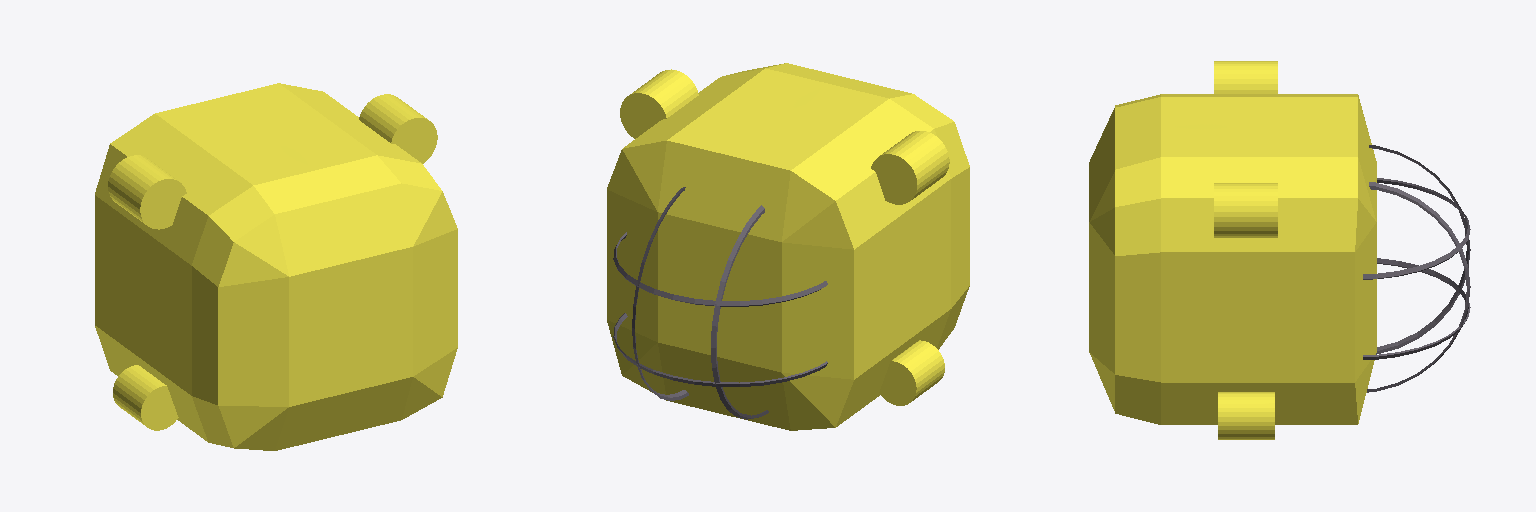
3 renders of one model, left to right at view 1: azimuth 30°, elevation 25°; view 2: azimuth 150°, elevation 25°; view 3: azimuth 270°, elevation 25°, orthographic.
Parts seen in each view (by area): view 1: Cube; view 2: Cube; view 3: Cube.
Boxes of the visible parts, box(x1,y1,x2,y2) form: Cube: box(95, 83, 457, 450); Cube: box(607, 63, 969, 430); Cube: box(1089, 61, 1470, 439).
Size of the model in its own units: 5.42 by 4.57 by 6.02.
1 materials, 1 textured.